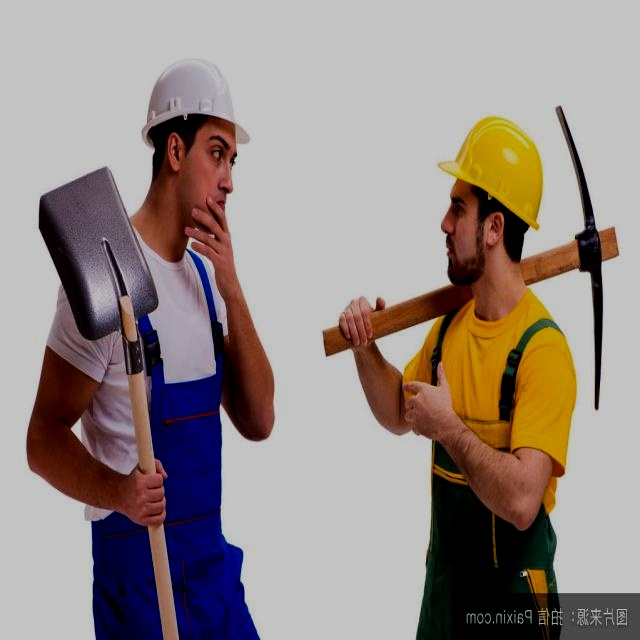Con_Casco: (143, 55, 250, 247), (438, 120, 547, 300)
